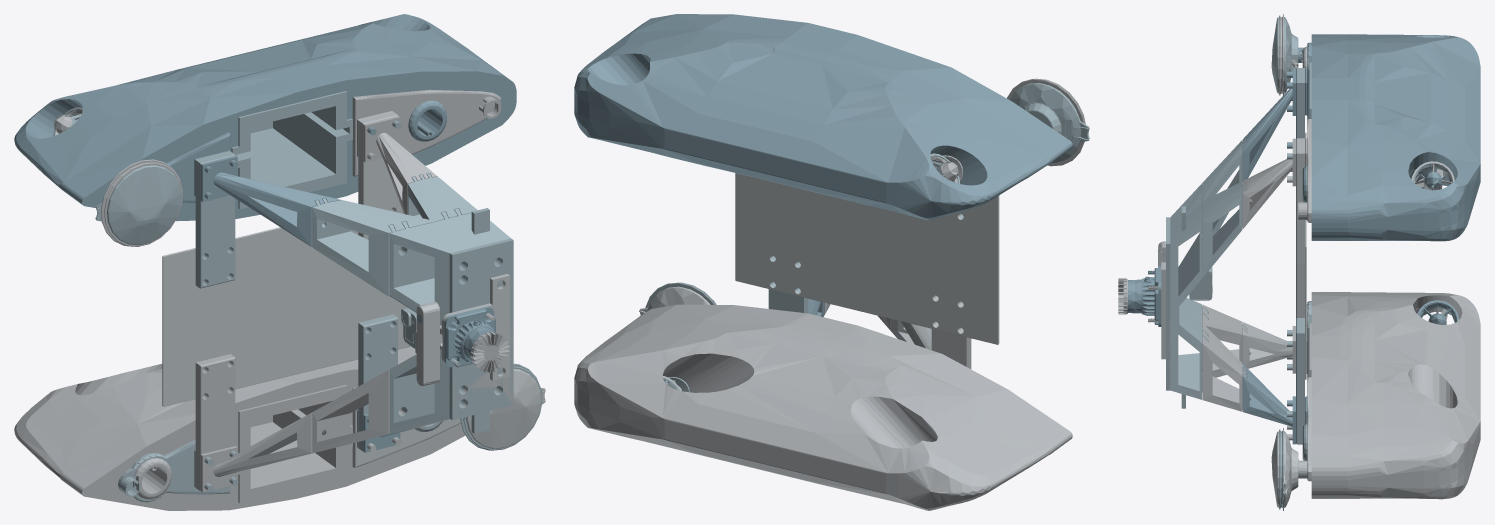
File: munin-mobile-preview.glb
3 views of the same model, side by side, from view 1: azimuth 30°, elevation 25°; view 2: azimuth 150°, elevation 25°; view 3: azimuth 270°, elevation 25° (orthographic). The views are drawn at different scales.
Visible parts, largest first — view 1: Munin-component-0015, Munin-component-0026, Munin-component-0016, Munin-component-0041, Munin-component-0109, Munin-component-0049, Munin-component-0108, Munin-component-0028, Munin-component-0129, Munin-component-0024, Munin-component-0033, Munin-component-0052 (+21 smaller); view 2: Munin-component-0016, Munin-component-0015, Munin-component-0026, Munin-component-0129, Munin-component-0024, Munin-component-0126, Munin-component-0025, Munin-component-0050, Munin-component-0128; view 3: Munin-component-0016, Munin-component-0015, Munin-component-0041, Munin-component-0049, Munin-component-0052, Munin-component-0048, Munin-component-0051, Munin-component-0047, Munin-component-0050, Munin-component-0126, Munin-component-0025, Munin-component-0129 (+12 smaller).
Part boxes in pixels (left/top/right/bottom): Munin-component-0015: left=14, top=14, right=516, bottom=221; Munin-component-0026: left=162, top=198, right=410, bottom=406; Munin-component-0016: left=14, top=346, right=465, bottom=510; Munin-component-0041: left=388, top=208, right=513, bottom=433; Munin-component-0109: left=231, top=91, right=352, bottom=209; Munin-component-0049: left=312, top=173, right=477, bottom=296; Munin-component-0108: left=237, top=385, right=352, bottom=503; Munin-component-0028: left=352, top=89, right=501, bottom=176; Munin-component-0129: left=95, top=165, right=181, bottom=245; Munin-component-0024: left=195, top=354, right=235, bottom=490; Munin-component-0033: left=195, top=151, right=235, bottom=288; Munin-component-0052: left=312, top=369, right=449, bottom=452; Munin-component-0016: left=574, top=304, right=1072, bottom=510; Munin-component-0015: left=574, top=14, right=1072, bottom=220; Munin-component-0026: left=735, top=173, right=999, bottom=344; Munin-component-0129: left=1010, top=83, right=1089, bottom=162; Munin-component-0024: left=931, top=295, right=971, bottom=368; Munin-component-0126: left=639, top=286, right=710, bottom=315; Munin-component-0025: left=768, top=255, right=808, bottom=313; Munin-component-0050: left=891, top=319, right=931, bottom=350; Munin-component-0128: left=1007, top=78, right=1085, bottom=166; Munin-component-0016: left=1311, top=292, right=1480, bottom=499; Munin-component-0015: left=1311, top=34, right=1480, bottom=241; Munin-component-0041: left=1166, top=181, right=1208, bottom=408; Munin-component-0049: left=1202, top=139, right=1246, bottom=277; Munin-component-0052: left=1202, top=304, right=1246, bottom=411; Munin-component-0048: left=1242, top=138, right=1295, bottom=228; Munin-component-0051: left=1242, top=364, right=1295, bottom=444; Munin-component-0047: left=1242, top=88, right=1292, bottom=180; Munin-component-0050: left=1242, top=322, right=1292, bottom=368; Munin-component-0126: left=1271, top=431, right=1298, bottom=507; Munin-component-0025: left=1296, top=318, right=1304, bottom=444; Munin-component-0129: left=1271, top=17, right=1301, bottom=93.
Bounding box in the file's own units: 1.02 × 0.886 × 0.8065.
